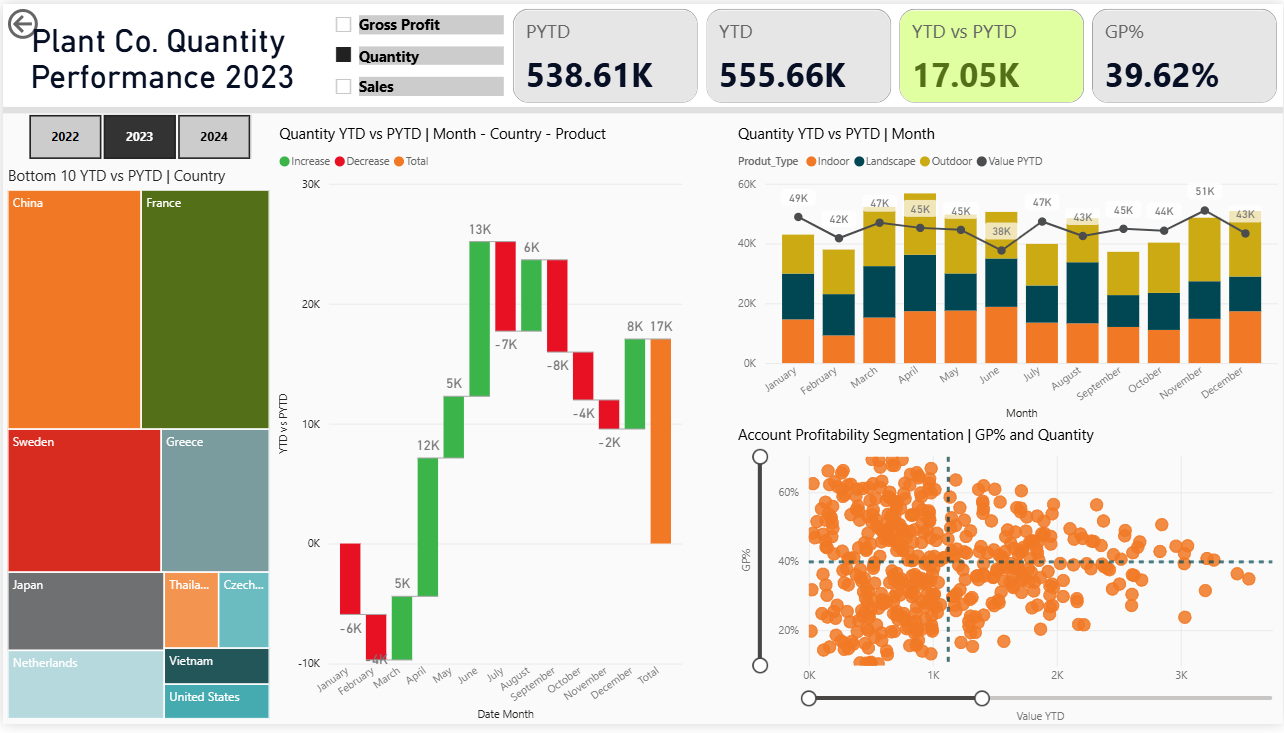

The page's visual inventory and layout, read from the dashboard file:
{"tool":"powerbi","page":{"name":"Page 1","canvas":[1280,720],"ordinal":0},"visuals":[{"type":"cardVisual","fields":{"Data":["_Measures.S_PYTD","_Measures.S_YTD","_Measures.YTD vs PYTD","_Measures.GP%"]},"box":[505,0,775.3,104.3],"z":0},{"type":"slicer","fields":{"Values":["Slc_Values.Values"]},"box":[319.7,0,185.8,103.8],"z":1000},{"type":"slicer","fields":{"Values":["Dim_Date.Date.Variation.Date Hierarchy.Year"]},"box":[0,103.8,271.4,57.9],"z":2000},{"type":"treemap","title":"Bottom 10 YTD vs PYTD | Country","fields":{"Group":["Dim_Account.country"],"Values":["_Measures.YTD vs PYTD"]},"box":[0,161.7,271.4,558.6],"z":3000},{"type":"waterfallChart","fields":{"Y":["_Measures.YTD vs PYTD"],"Category":["Dim_Date.Date.Variation.Date Hierarchy.Month","Dim_Account.country","Dim_Product.Produt_Type","Dim_Product.Product_Name"]},"box":[271.4,118.2,412.6,602],"z":4000},{"type":"actionButton","box":[0,0,100.1,39.8],"z":5000},{"type":"lineStackedColumnComboChart","fields":{"Category":["Dim_Date.Date.Variation.Date Hierarchy.Quarter","Dim_Date.Date.Variation.Date Hierarchy.Month"],"Y":["_Measures.S_YTD"],"Y2":["_Measures.S_PYTD"],"Series":["Dim_Product.Produt_Type"]},"box":[729.9,118.2,550.1,301.6],"z":6000},{"type":"scatterChart","fields":{"X":["_Measures.S_YTD"],"Y":["_Measures.GP%"],"Category":["Dim_Account.Account"]},"box":[729.9,419.8,550.1,300.4],"z":7000},{"type":"card","fields":{"Values":["_Measures._Report title"]},"box":[0,0,319.7,103.8],"z":8000}]}

Visuals, with their boxes in screenshot pixels (x1, y1, x2, y2), scaled from the page's 1280x720 canvas onto the 1284x733 screenshot:
cardVisual - _Measures.S_PYTD x _Measures.S_YTD: crop(507, 0, 1283, 106)
slicer - Slc_Values.Values: crop(321, 0, 507, 106)
slicer - Dim_Date.Date.Variation.Date Hierarchy.Year: crop(0, 106, 272, 165)
"Bottom 10 YTD vs PYTD | Country" treemap: crop(0, 165, 272, 732)
waterfallChart - _Measures.YTD vs PYTD x Dim_Date.Date.Variation.Date Hierarchy.Month: crop(272, 120, 686, 732)
actionButton: crop(0, 0, 100, 41)
lineStackedColumnComboChart - Dim_Date.Date.Variation.Date Hierarchy.Quarter x Dim_Date.Date.Variation.Date Hierarchy.Month: crop(732, 120, 1283, 427)
scatterChart - _Measures.S_YTD x _Measures.GP%: crop(732, 427, 1283, 732)
card - _Measures._Report title: crop(0, 0, 321, 106)
